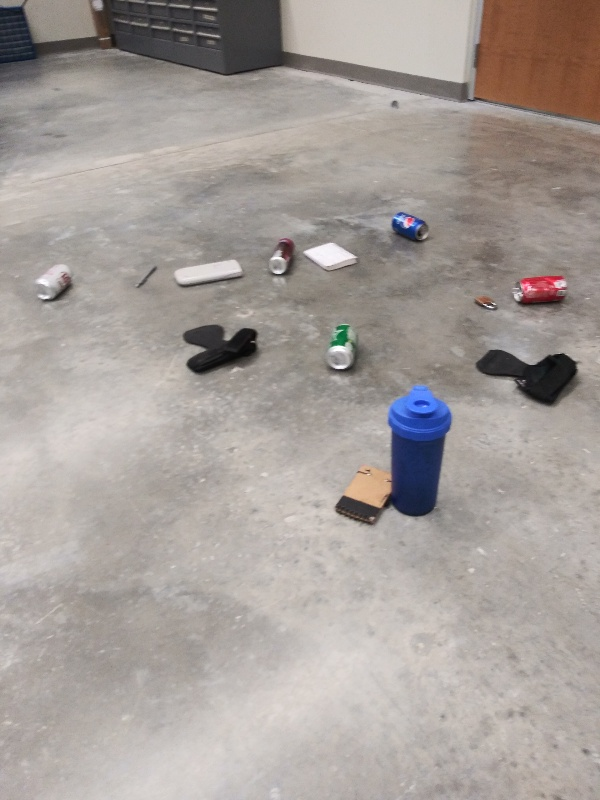can: (508, 271, 575, 309), (29, 259, 77, 305), (324, 321, 361, 374), (386, 208, 433, 244), (264, 235, 301, 275)
